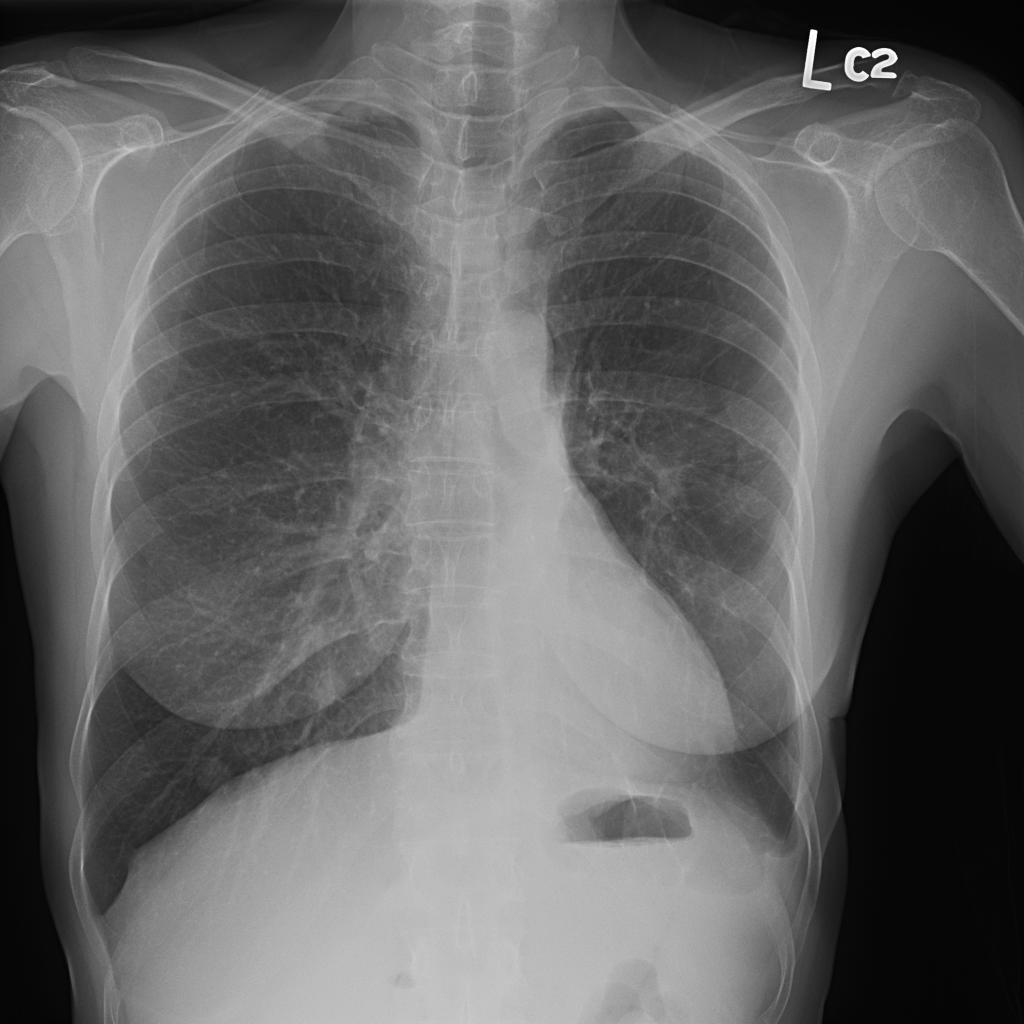Nodule: (85, 102, 124, 137), (95, 379, 124, 406)
